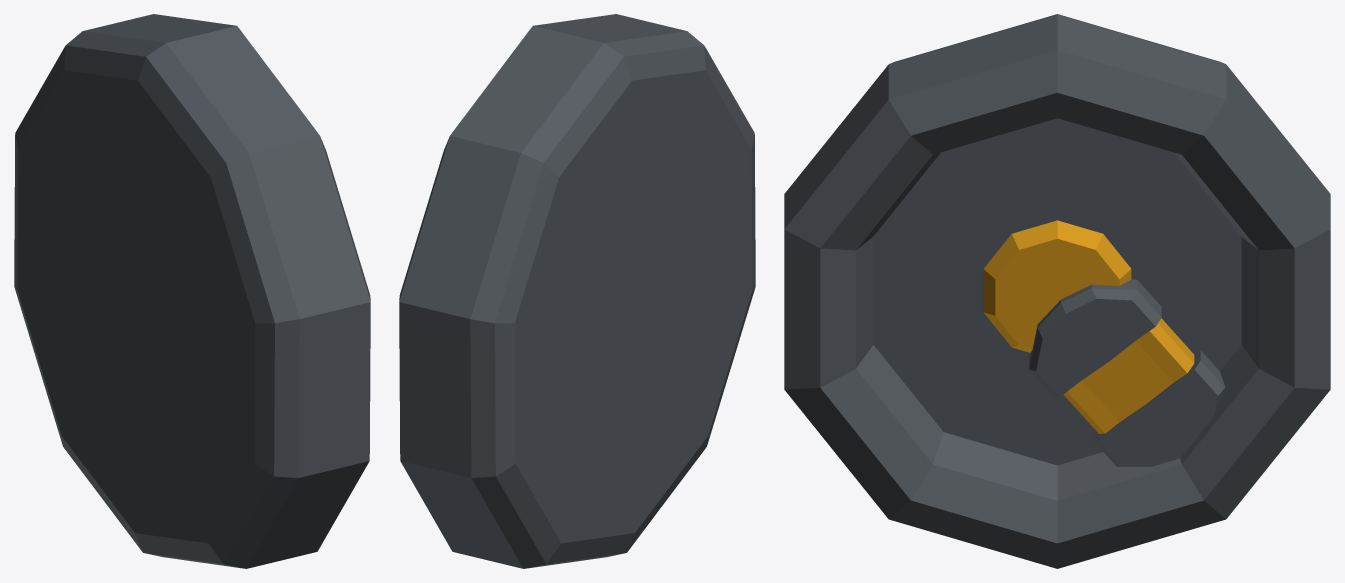
File: Personal_Vehicle_02_Detail_1_Yellow.fbx
3 renders of one model, left to right at view 1: azimuth 30°, elevation 25°; view 2: azimuth 150°, elevation 25°; view 3: azimuth 270°, elevation 25°, orthographic.
Parts seen in each view (by area): view 1: Personal_Vehicle_02_Detail_1_Yellow; view 2: Personal_Vehicle_02_Detail_1_Yellow; view 3: Personal_Vehicle_02_Detail_1_Yellow.
Part boxes in pixels (x1,y1,x2,y2): Personal_Vehicle_02_Detail_1_Yellow: (14, 14, 370, 568); Personal_Vehicle_02_Detail_1_Yellow: (399, 14, 755, 568); Personal_Vehicle_02_Detail_1_Yellow: (784, 14, 1330, 568).
Bounding box in the file's own units: 8.91 × 36.63 × 34.82.
1 material, 1 textured.
